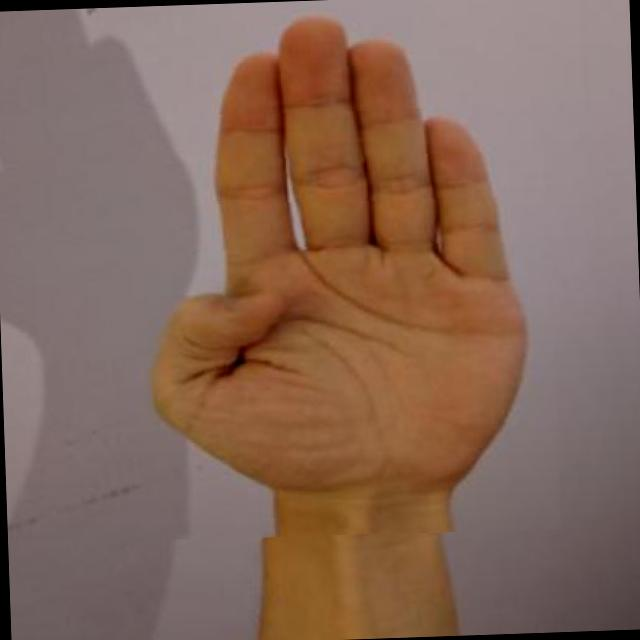B: (89, 0, 559, 544)
